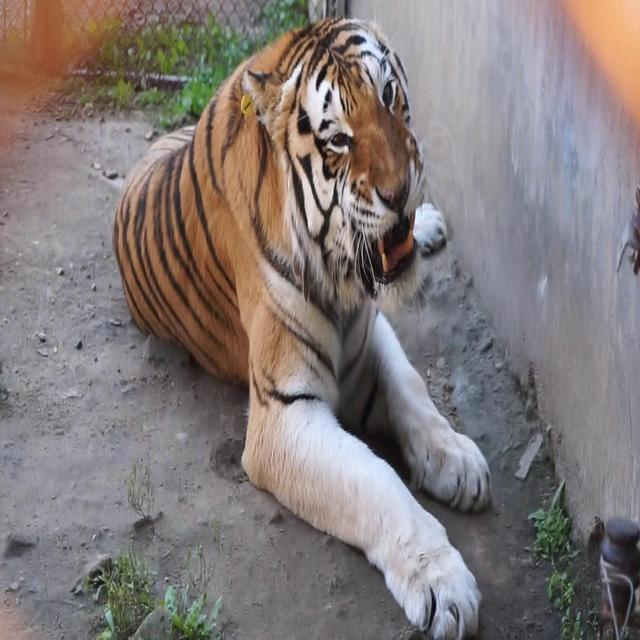tiger: (111, 14, 492, 639)
